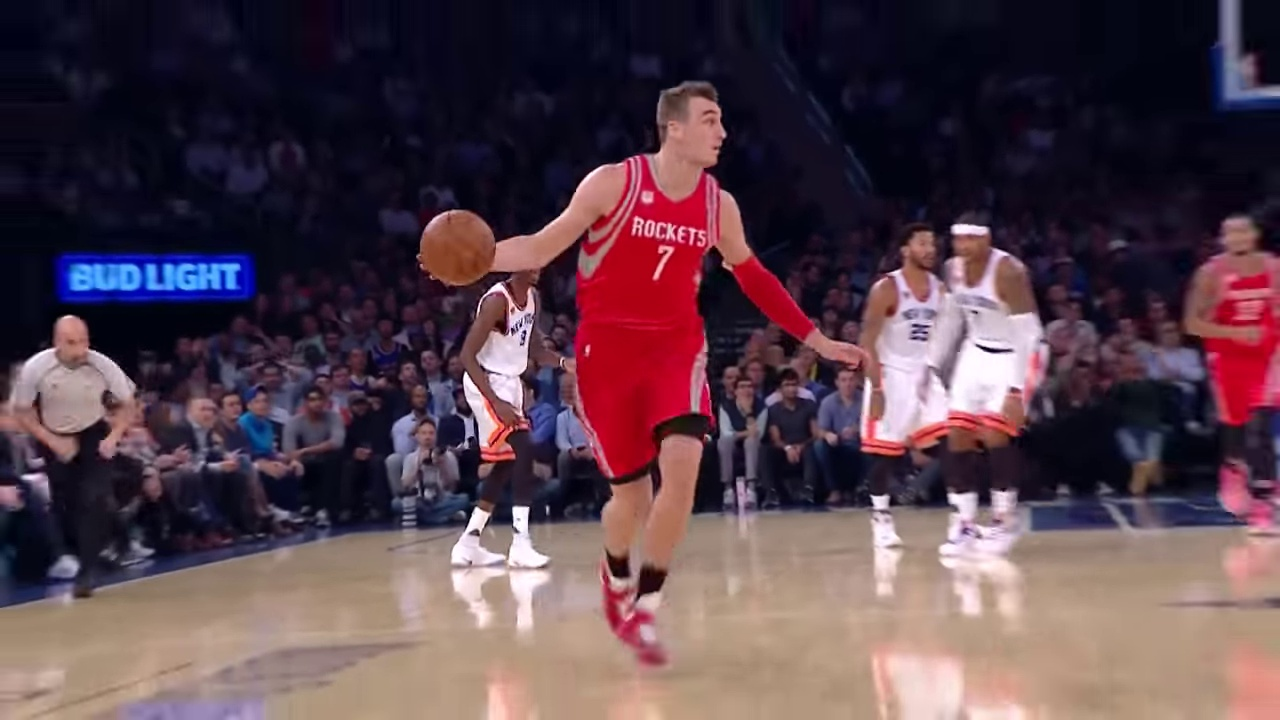bola: (415, 207, 493, 285)
person: (397, 81, 876, 602)
